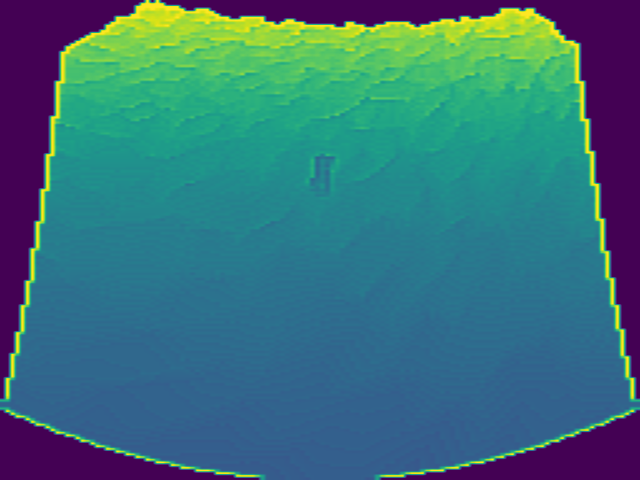car_0198: (307, 150, 333, 196)
